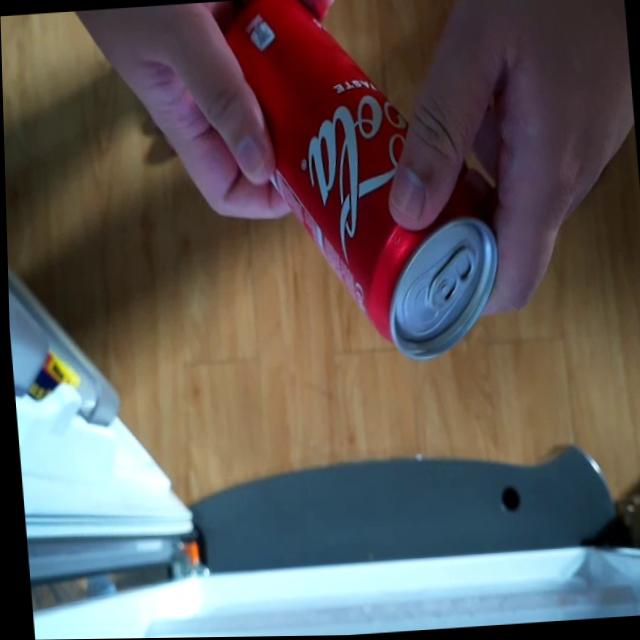coke: (200, 0, 506, 371)
